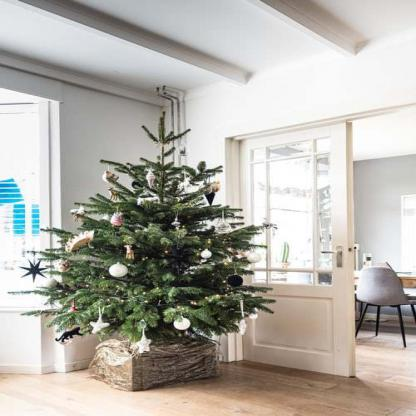x_mas tree: (19, 95, 296, 392)
